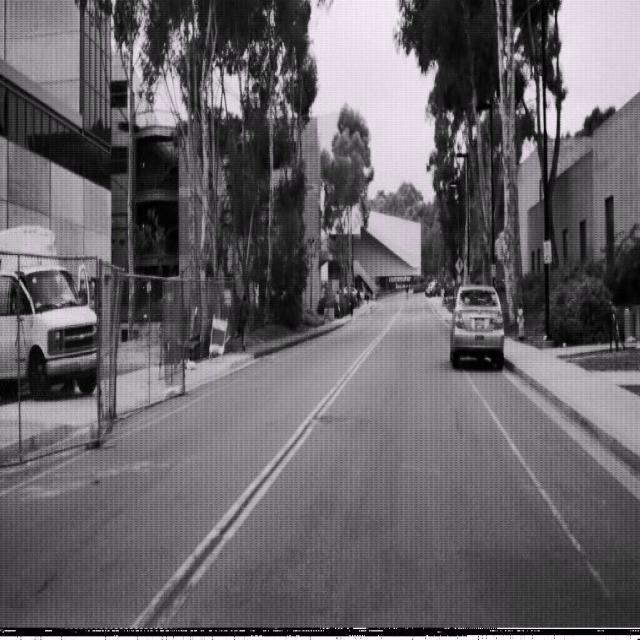pedestrianCrossing: (454, 256, 464, 275)
